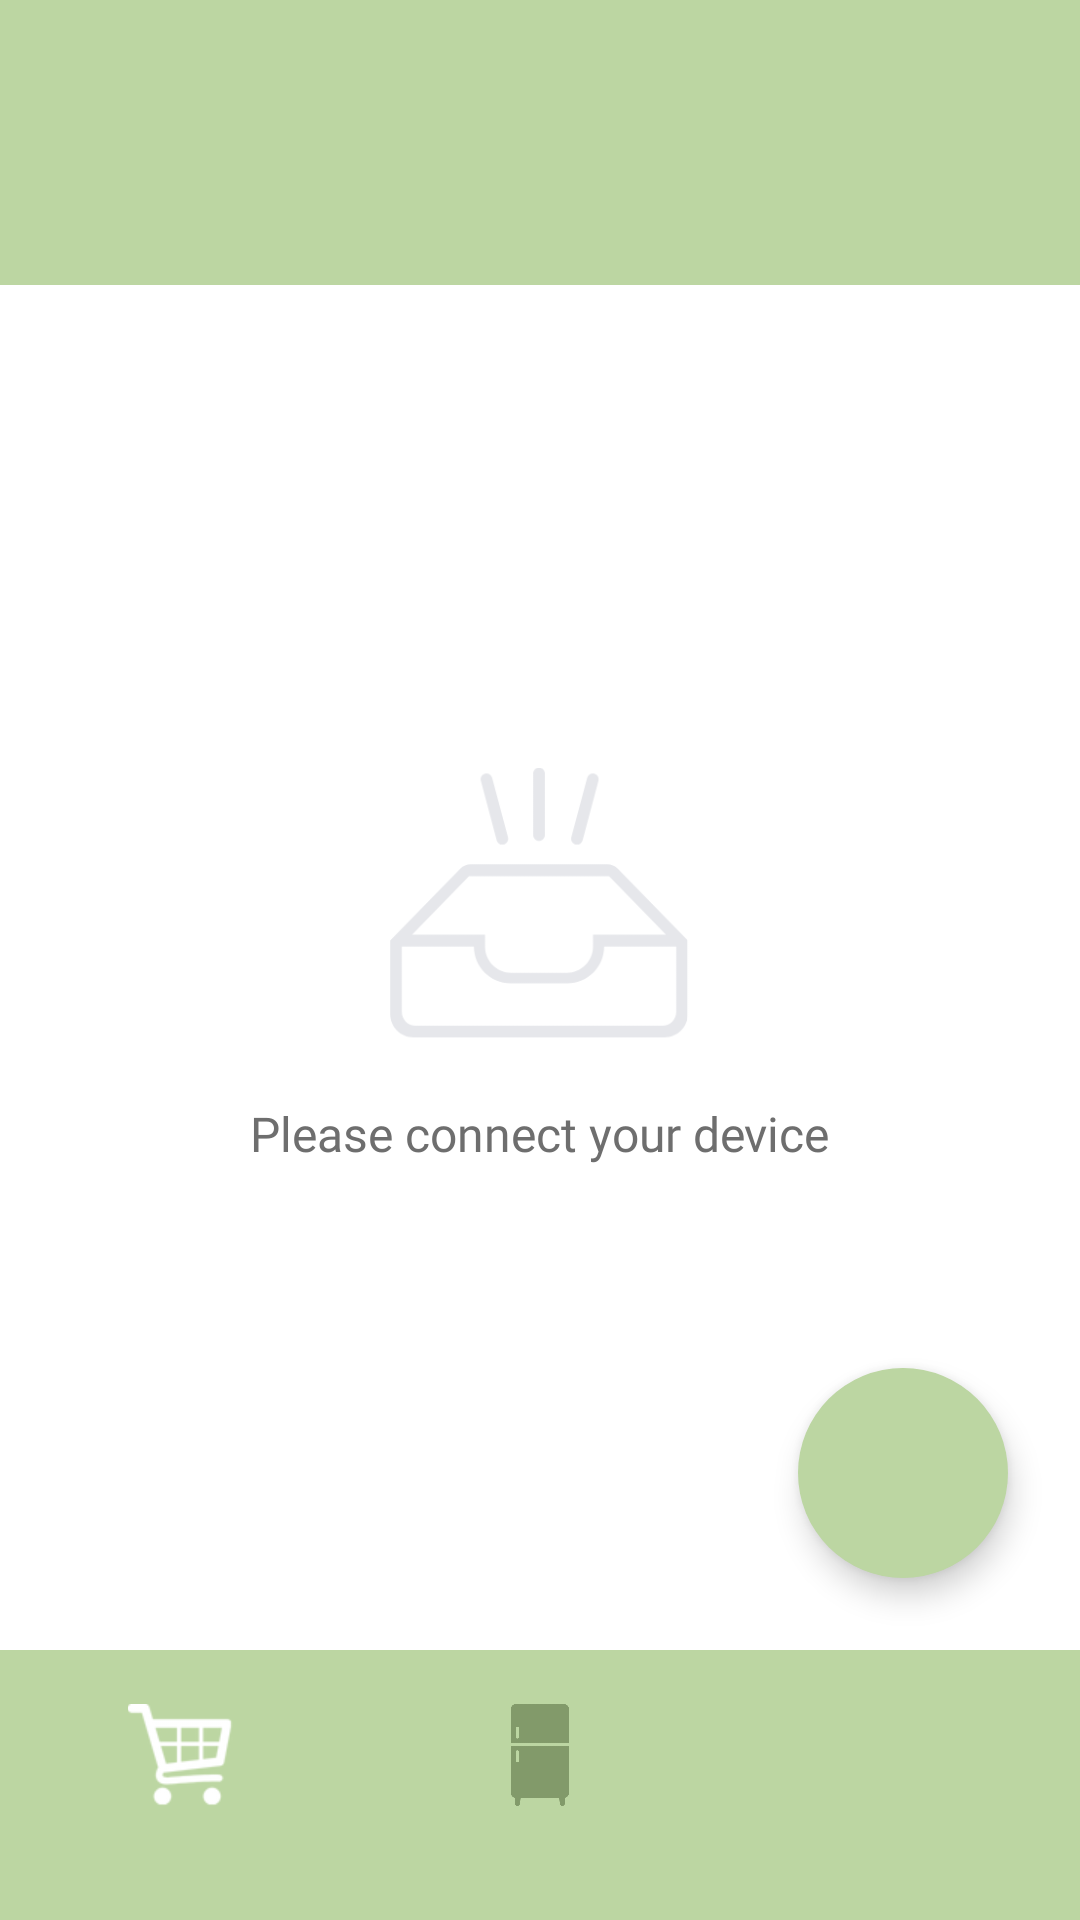

Named icons in this screenshot (1080*1920) and their bounding boxes, (x1, y1, x2, y2):
cart: (128, 1704, 231, 1805)
fridge: (511, 1704, 569, 1806)
